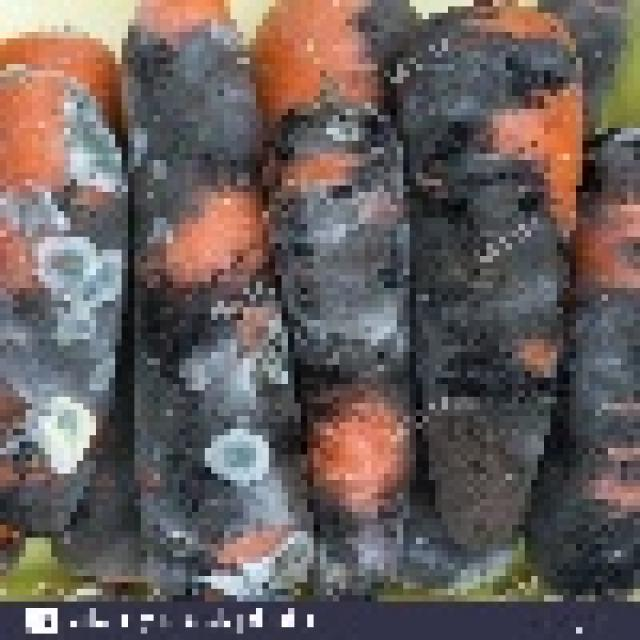Stale_Carrot: (127, 5, 296, 572), (418, 22, 573, 520), (0, 19, 128, 525), (282, 0, 406, 505), (546, 124, 640, 592)
